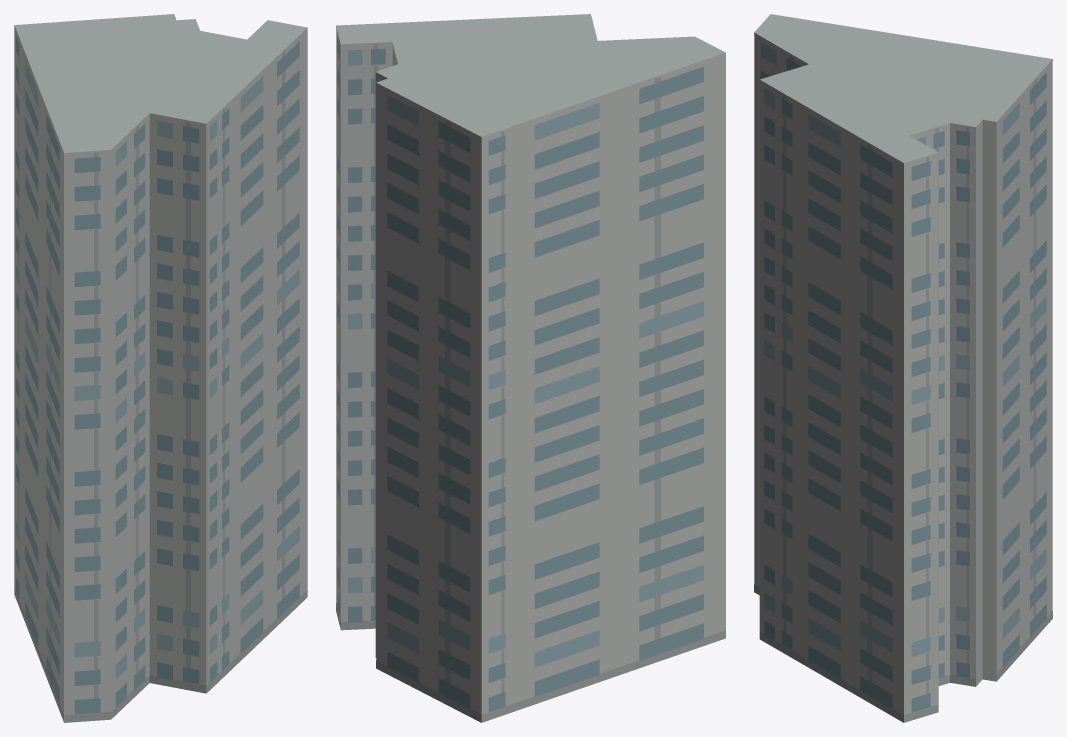
File: residential-0d86aef1-2e2a-4167-849f-7b5b13ca91cf.glb
The picture shows the model from 3 angles, left to right: view 1: azimuth 30°, elevation 25°; view 2: azimuth 150°, elevation 25°; view 3: azimuth 270°, elevation 25°; orthographic projection. The views are drawn at different scales.
Parts seen in each view (by area): view 1: residential-0d86aef1-2e2a-4167-849f-7b5b13ca91cf.tmp; view 2: residential-0d86aef1-2e2a-4167-849f-7b5b13ca91cf.tmp; view 3: residential-0d86aef1-2e2a-4167-849f-7b5b13ca91cf.tmp.
Part boxes in pixels (left/top/right/bottom): residential-0d86aef1-2e2a-4167-849f-7b5b13ca91cf.tmp: left=14, top=14, right=307, bottom=722; residential-0d86aef1-2e2a-4167-849f-7b5b13ca91cf.tmp: left=336, top=14, right=725, bottom=722; residential-0d86aef1-2e2a-4167-849f-7b5b13ca91cf.tmp: left=754, top=14, right=1052, bottom=722.
Size of the model in its own units: 50.3 by 88 by 42.56.
